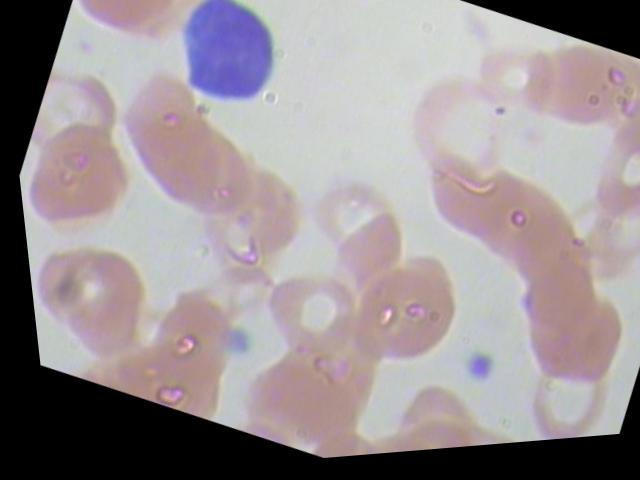Platelets: (437, 344, 499, 407), (210, 324, 259, 374)
Red Blood Cells: (318, 238, 473, 396), (9, 96, 156, 260), (380, 60, 537, 212), (392, 132, 549, 283), (435, 165, 592, 316), (496, 283, 639, 426), (485, 243, 630, 384), (272, 149, 413, 282), (234, 252, 375, 384), (281, 178, 422, 310), (90, 57, 223, 196), (144, 116, 277, 255), (183, 151, 316, 290), (31, 236, 164, 374), (13, 55, 145, 194), (111, 95, 243, 234), (114, 276, 246, 415), (509, 41, 634, 165), (19, 215, 128, 353), (542, 185, 639, 325), (488, 356, 612, 450), (360, 370, 489, 458), (567, 129, 639, 252), (63, 0, 200, 62), (367, 392, 494, 458), (427, 421, 551, 454), (300, 0, 409, 37)
White Blood Cells: (140, 0, 311, 135)
